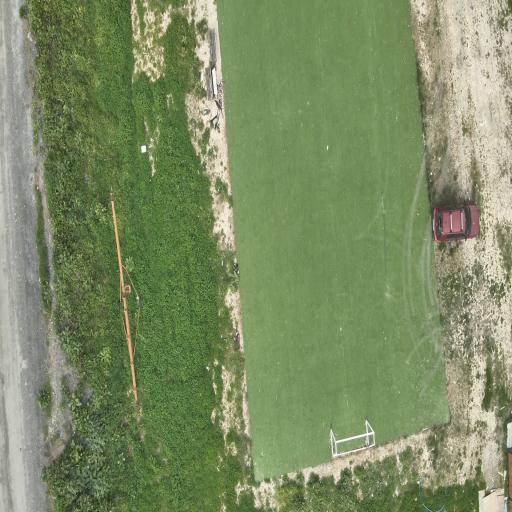car: (433, 204, 479, 241)
